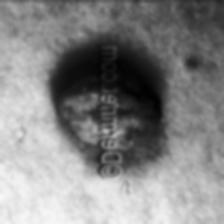Potentially Malignant Skin Tumors: (52, 68, 103, 155), (116, 77, 169, 150)
